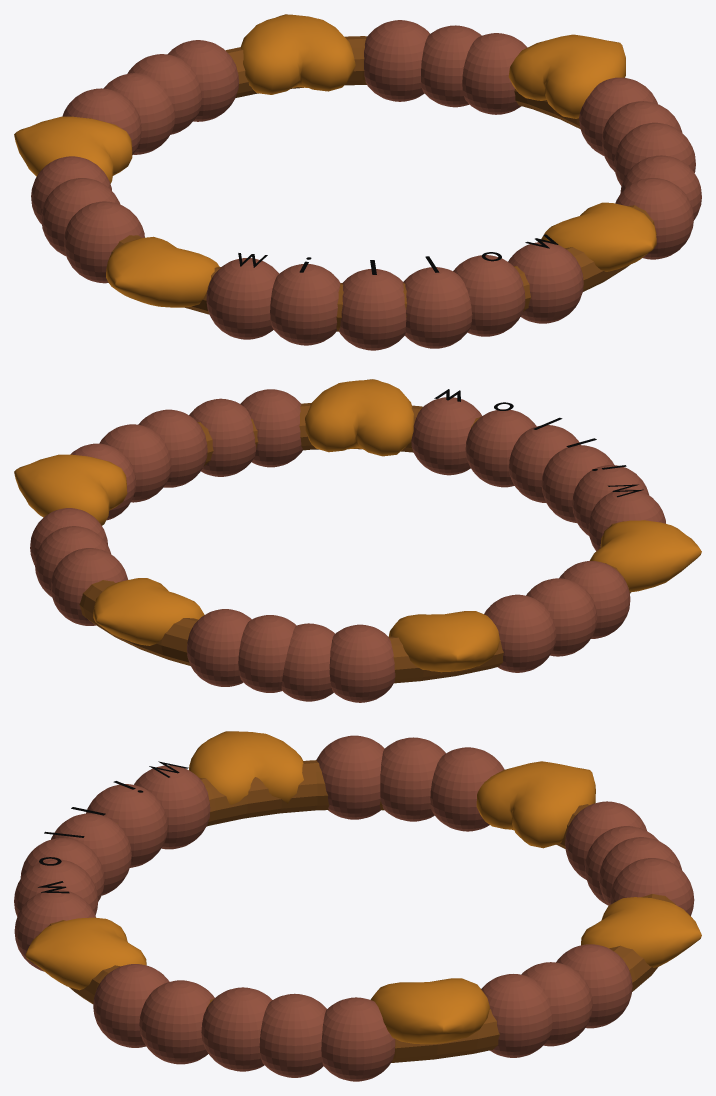
The model's file is Evermore_Willow.fbx.
The picture shows the model from 3 angles, top to bottom: view 1: azimuth 30°, elevation 25°; view 2: azimuth 150°, elevation 25°; view 3: azimuth 270°, elevation 25°; orthographic projection. The views are drawn at different scales.
Visible parts, largest first — view 1: Torus.036; view 2: Torus.036; view 3: Torus.036.
Boxes of the visible parts, x1,y1,x2,y2 form: Torus.036: [14, 14, 701, 350]; Torus.036: [14, 379, 701, 702]; Torus.036: [14, 731, 701, 1081].
Bounding box in the file's own units: 121 × 17.15 × 114.
